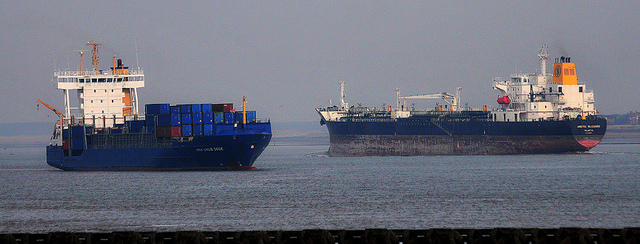container_ship: (34, 37, 262, 172)
tanker: (322, 47, 613, 156)
